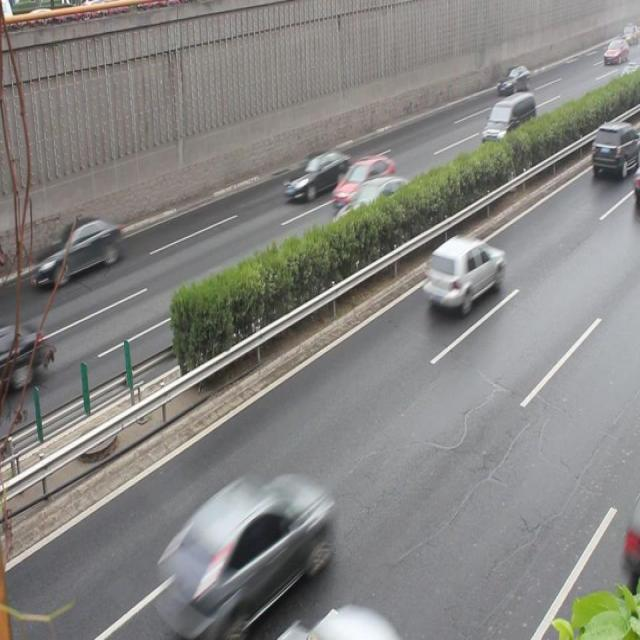car: (161, 474, 330, 627), (32, 217, 122, 290), (427, 233, 502, 311), (331, 176, 413, 247), (283, 598, 399, 640), (335, 158, 398, 214), (286, 152, 348, 205), (589, 119, 640, 183), (1, 321, 48, 385), (496, 65, 530, 99)
truck: (480, 92, 534, 152)
